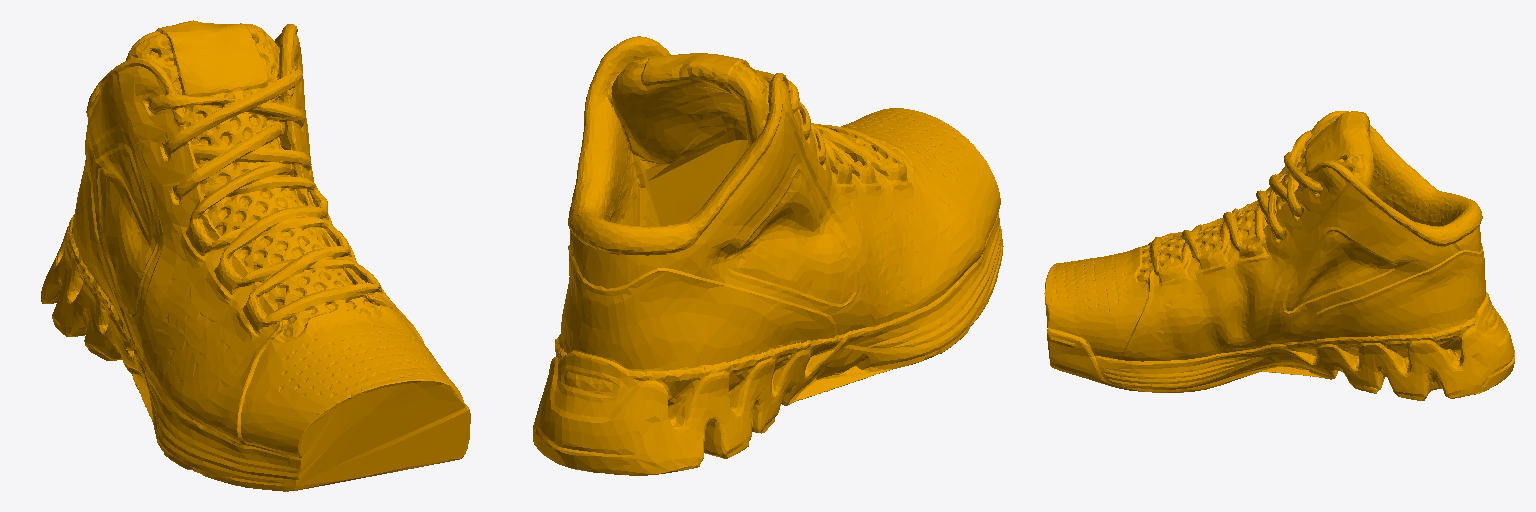
robot.urdf — 2lw48chs:
<?xml version='1.0'?>

<robot name="2lw48chs">
    <static>false</static>
    <link name="link">
        <inertial>
            <mass value="0.08721794542564892"/>
            <inertia ixx="0.00010410448851491822" ixy="-3.720242007676014e-06" ixz="-2.171609689401528e-06"
                     iyy="3.32783245706651e-05" iyz="-6.9478548424570474e-06" izz="9.48260700976119e-05"/>
        </inertial>
        <collision name="collision">
            <geometry>
                <mesh filename="package://miscnet/train/2lw48chs/collision_model_vhacd.obj"/>
            </geometry>
        </collision>
        <visual name="visual">
            <geometry>
                <mesh filename="package://miscnet/train/2lw48chs/visual_model.obj"/>
            </geometry>
        </visual>
    </link>
</robot>

--- Facts derived from the render (not from the file) ---
The picture shows the robot from 3 angles, left to right: view 1: azimuth 30°, elevation 25°; view 2: azimuth 150°, elevation 25°; view 3: azimuth 270°, elevation 25°; orthographic projection.
Model 2lw48chs with 1 links and 0 joints (none), rooted at link, posed every joint at zero.
Links seen in each view (by area): view 1: link; view 2: link; view 3: link.
Boxes of the visible links, x1,y1,x2,y2 form: link: (41,20,470,491); link: (533,36,1003,475); link: (1044,111,1514,400).
Size in the robot's own frame: 0.0535 by 0.127 by 0.0731 metres.
Meshes: 1 distinct files referenced, 1 mesh visuals loaded (1 OBJ).
